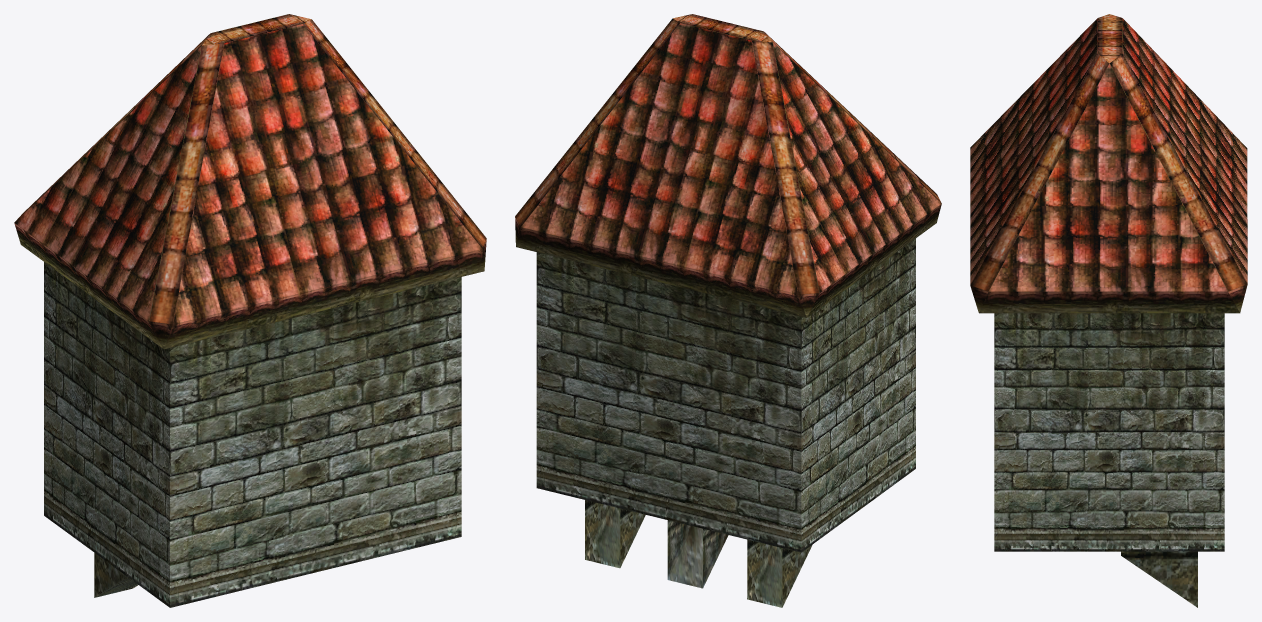
3 views of the same model, side by side, from view 1: azimuth 30°, elevation 25°; view 2: azimuth 150°, elevation 25°; view 3: azimuth 270°, elevation 25° (orthographic). The views are drawn at different scales.
Visible parts, largest first — view 1: cc02; view 2: cc02; view 3: cc02.
Boxes of the visible parts, bbox=[...] form: cc02: bbox=[14, 14, 486, 607]; cc02: bbox=[515, 14, 941, 607]; cc02: bbox=[970, 14, 1247, 607].
Bounding box in the file's own units: 4.64 × 7.56 × 3.61.
6 materials, 6 textured.
